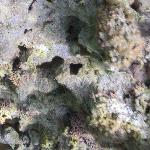dead: (1, 34, 145, 142)
